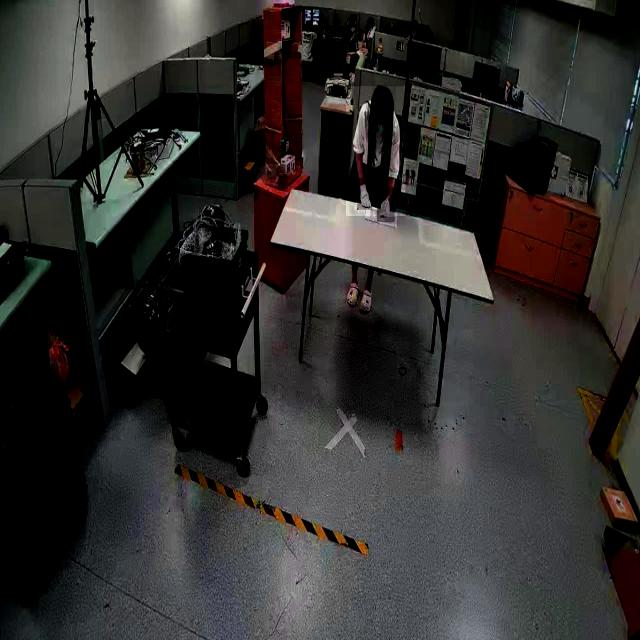face_mask: (372, 116, 390, 138)
hand_glove: (376, 187, 394, 223), (356, 178, 372, 210)
head_nohelmet: (372, 85, 396, 115), (350, 15, 358, 22)
person: (346, 86, 406, 217)
